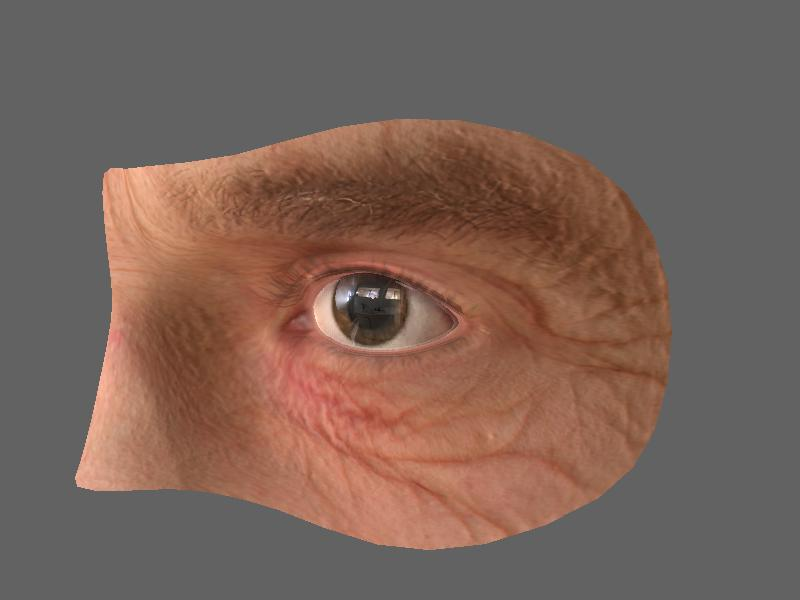iris: (335, 272, 409, 342)
